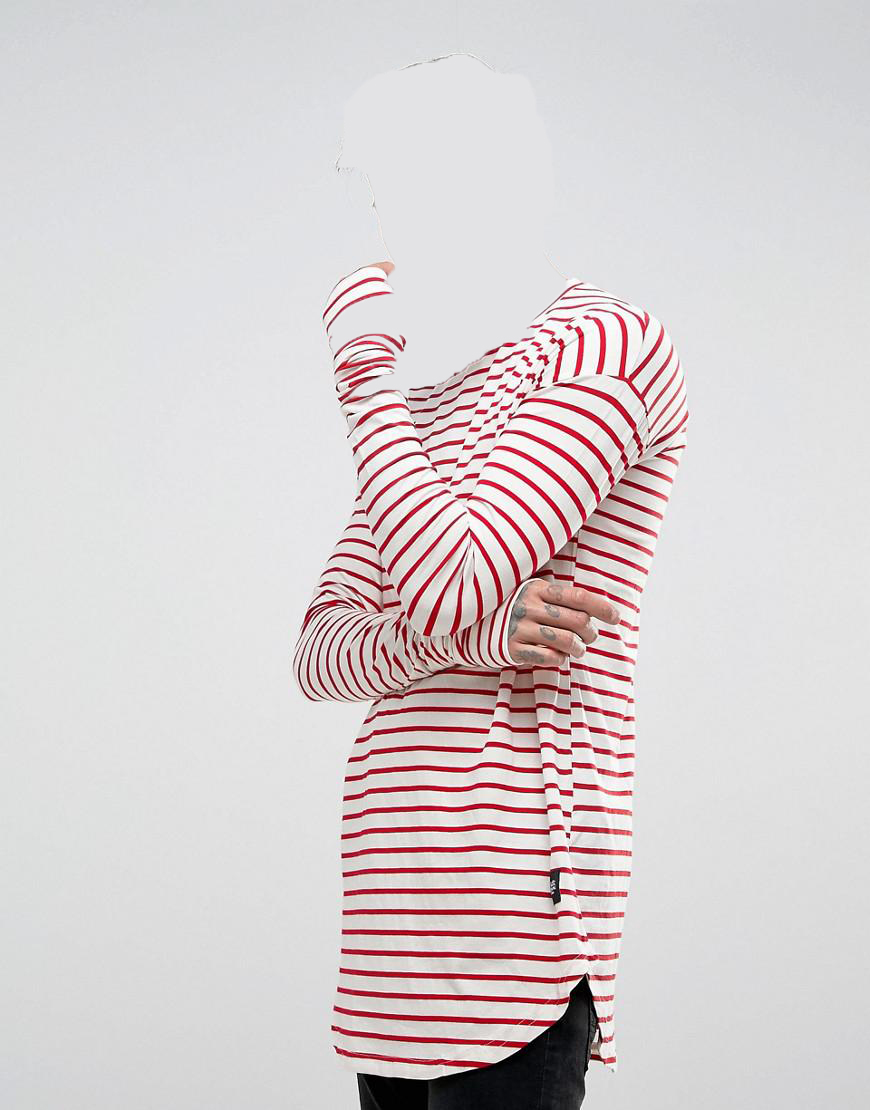teeshirt: (269, 257, 698, 1100)
